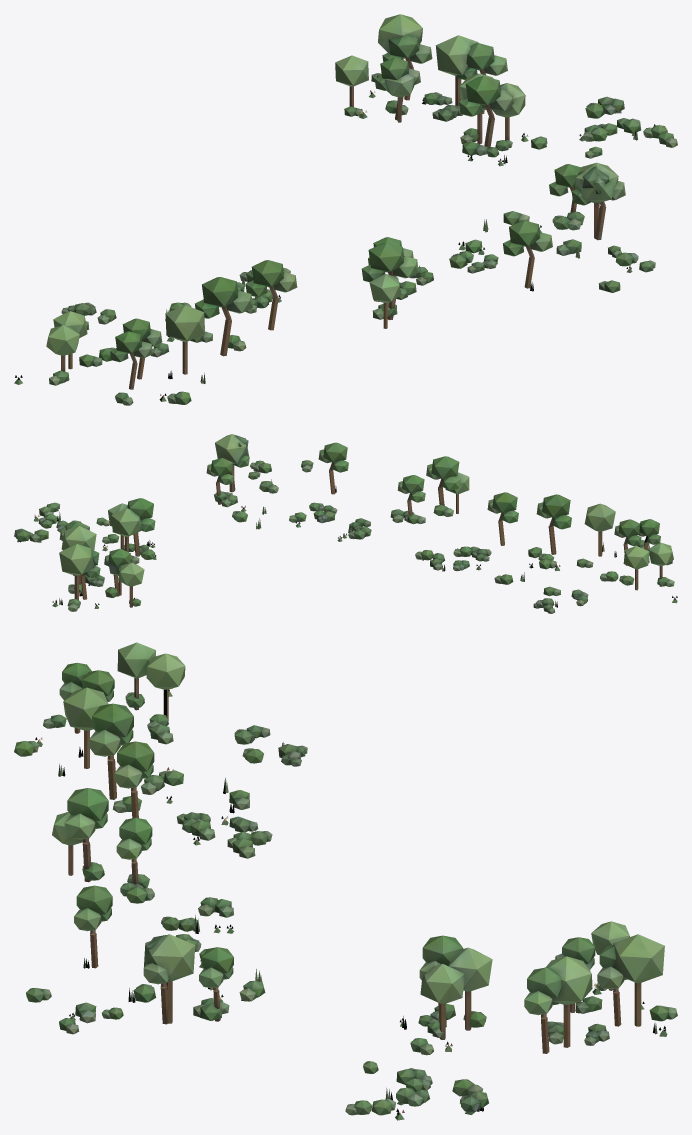
The model's file is groves-wild.glb.
3 renders of one model, top to bottom at view 1: azimuth 30°, elevation 25°; view 2: azimuth 150°, elevation 25°; view 3: azimuth 270°, elevation 25°, orthographic. The views are drawn at different scales.
Parts seen in each view (by area): view 1: groves-wild; view 2: groves-wild; view 3: groves-wild.
Boxes of the visible parts, x1,y1,x2,y2 form: groves-wild: [14, 14, 677, 405]; groves-wild: [14, 434, 677, 613]; groves-wild: [14, 642, 677, 1120].
Bounding box in the file's own units: 6.72 × 0.749 × 4.42.
Materials: 1 (1 with a texture image).
